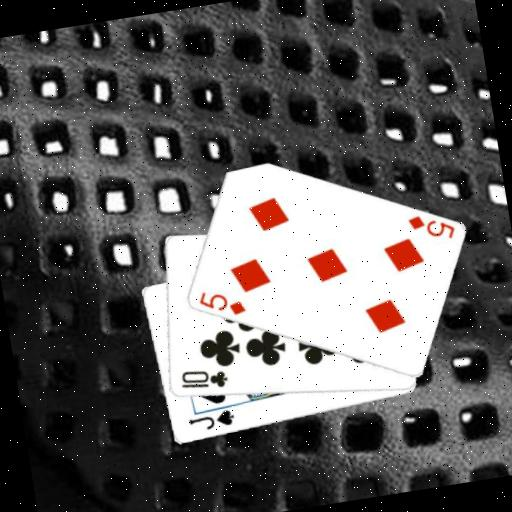10C: (175, 362, 230, 396)
5D: (194, 282, 248, 322), (403, 207, 457, 247)
JS: (184, 406, 236, 435)
